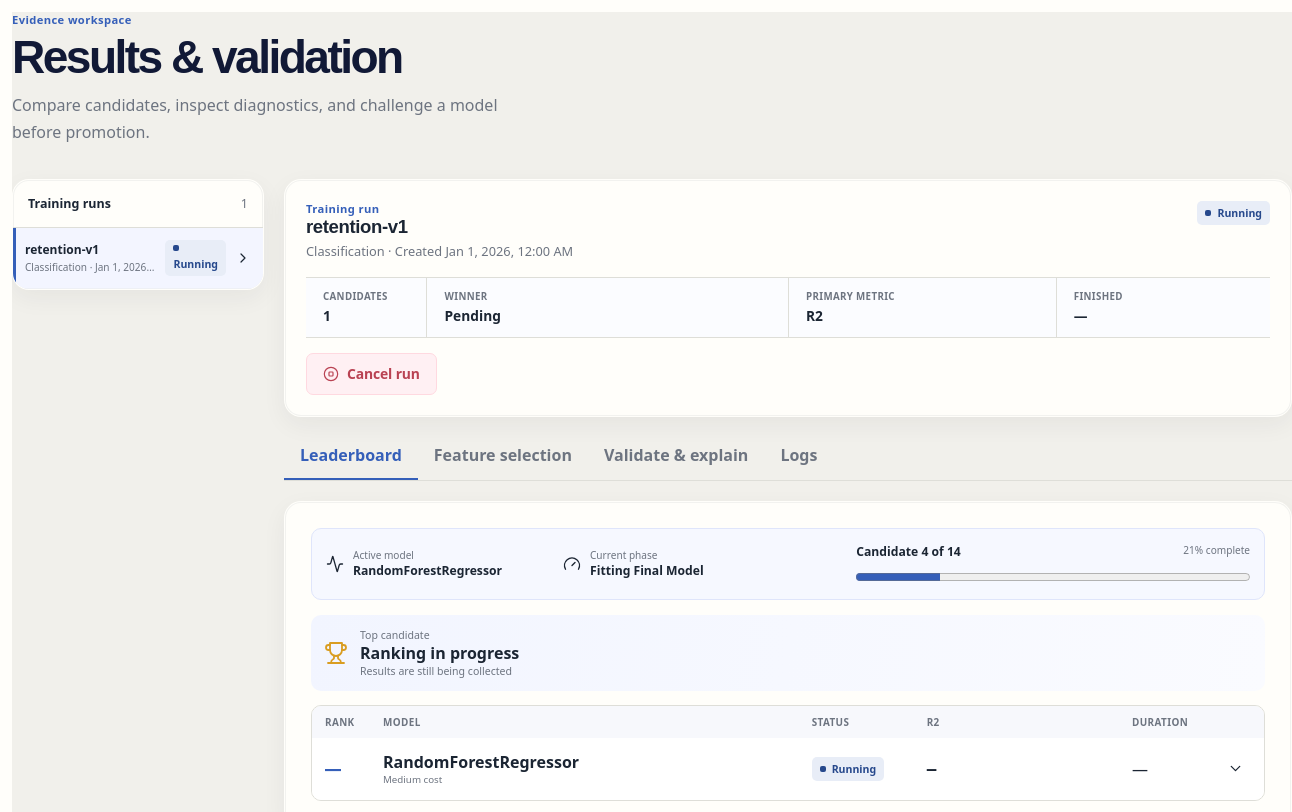
Scenario: core workflow integrations › refreshes run evidence and labels interrupted progress after cancellation
Expected: the text "Active model" is shown, [353,548,414,562]
Click the button "Cancel run". click: click(371, 374)
box: [306,353,437,395]
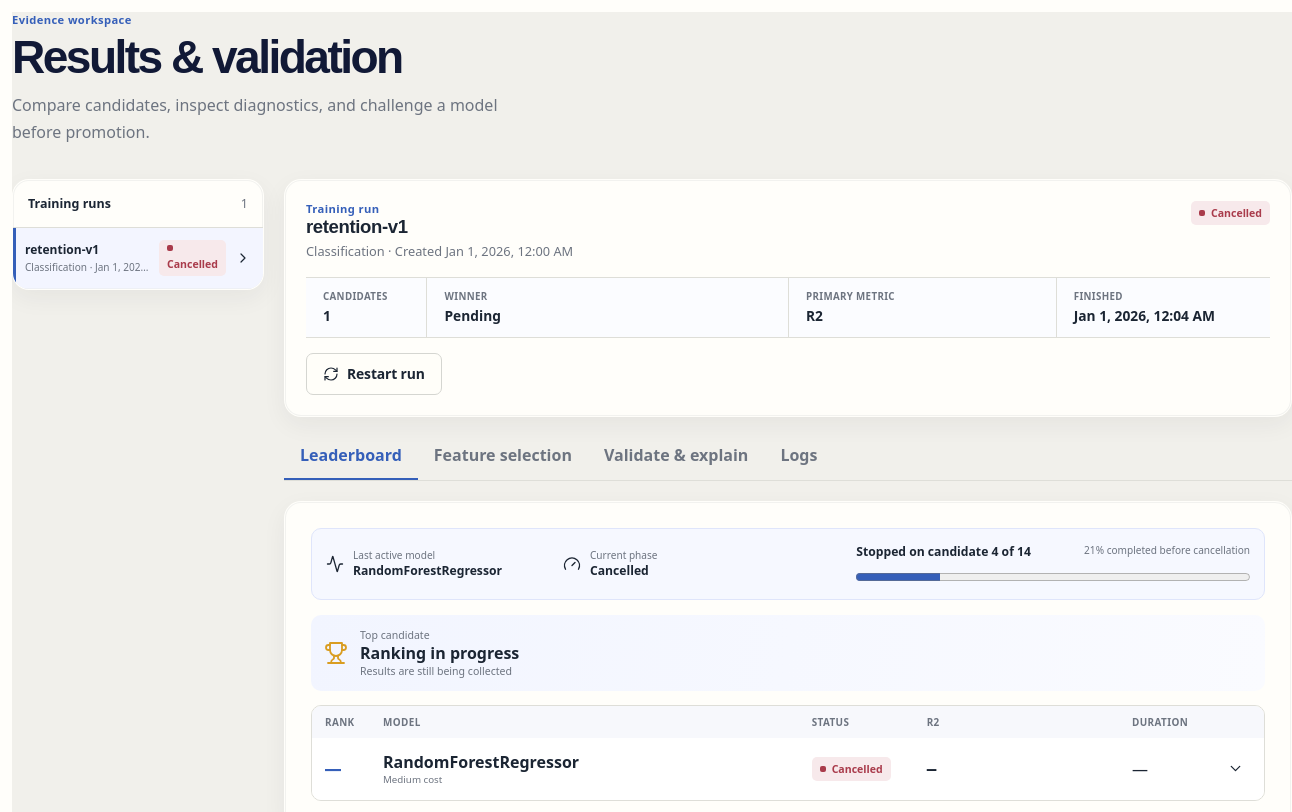
Result: the button "Restart run" is shown at [306,353,442,395]
Result: the text "Last active model" is shown at [353,548,435,562]
Result: the text "Stopped on candidate 4 of 14" is shown at [856,543,1031,560]
